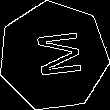M_W: (25, 30, 82, 83)
